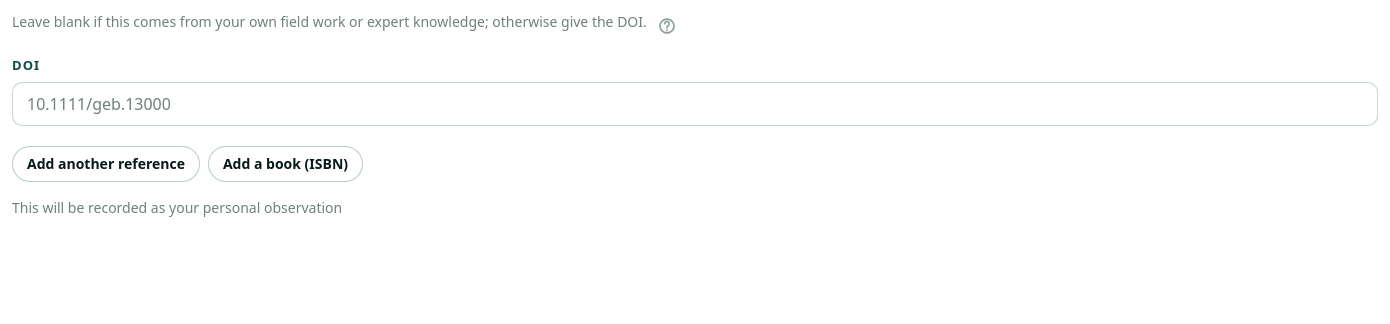
RFC-70 R1 SourcesField › explains once, however many rows there are, that a blank field is own field work
Expected: the text "Leave blank if this comes from your own field work or expert knowledge; otherwise give the DOI." is shown once, x1=12 y1=12 x2=647 y2=32
Expected: the number of buttons named "What does this mean?" is 1, x1=653 y1=12 x2=681 y2=40
Click the button "Add another reference" at (106, 164), box x1=12 y1=146 x2=200 y2=182
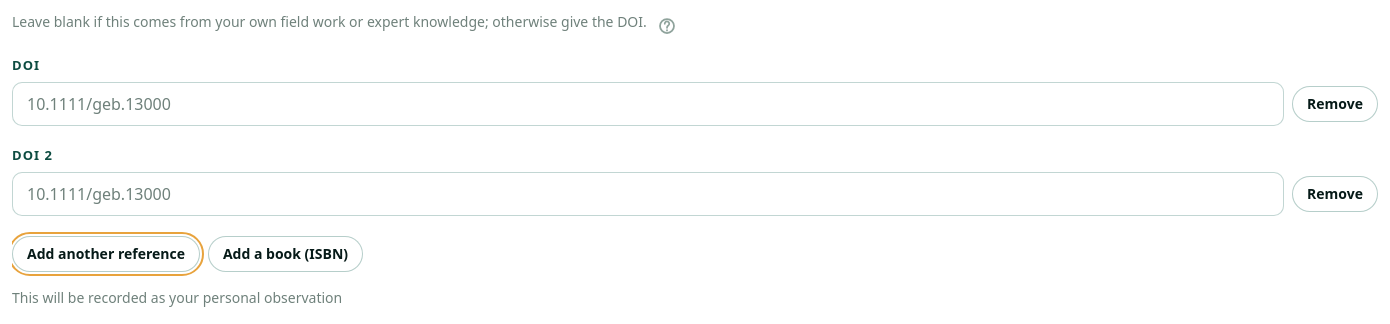
Expected: the text "Leave blank if this comes from your own field work or expert knowledge; otherwise give the DOI." is shown once, x1=12 y1=12 x2=647 y2=32
Now the number of fields labelled "DOI" is 2, box x1=12 y1=82 x2=1284 y2=126; x1=12 y1=172 x2=1284 y2=216
